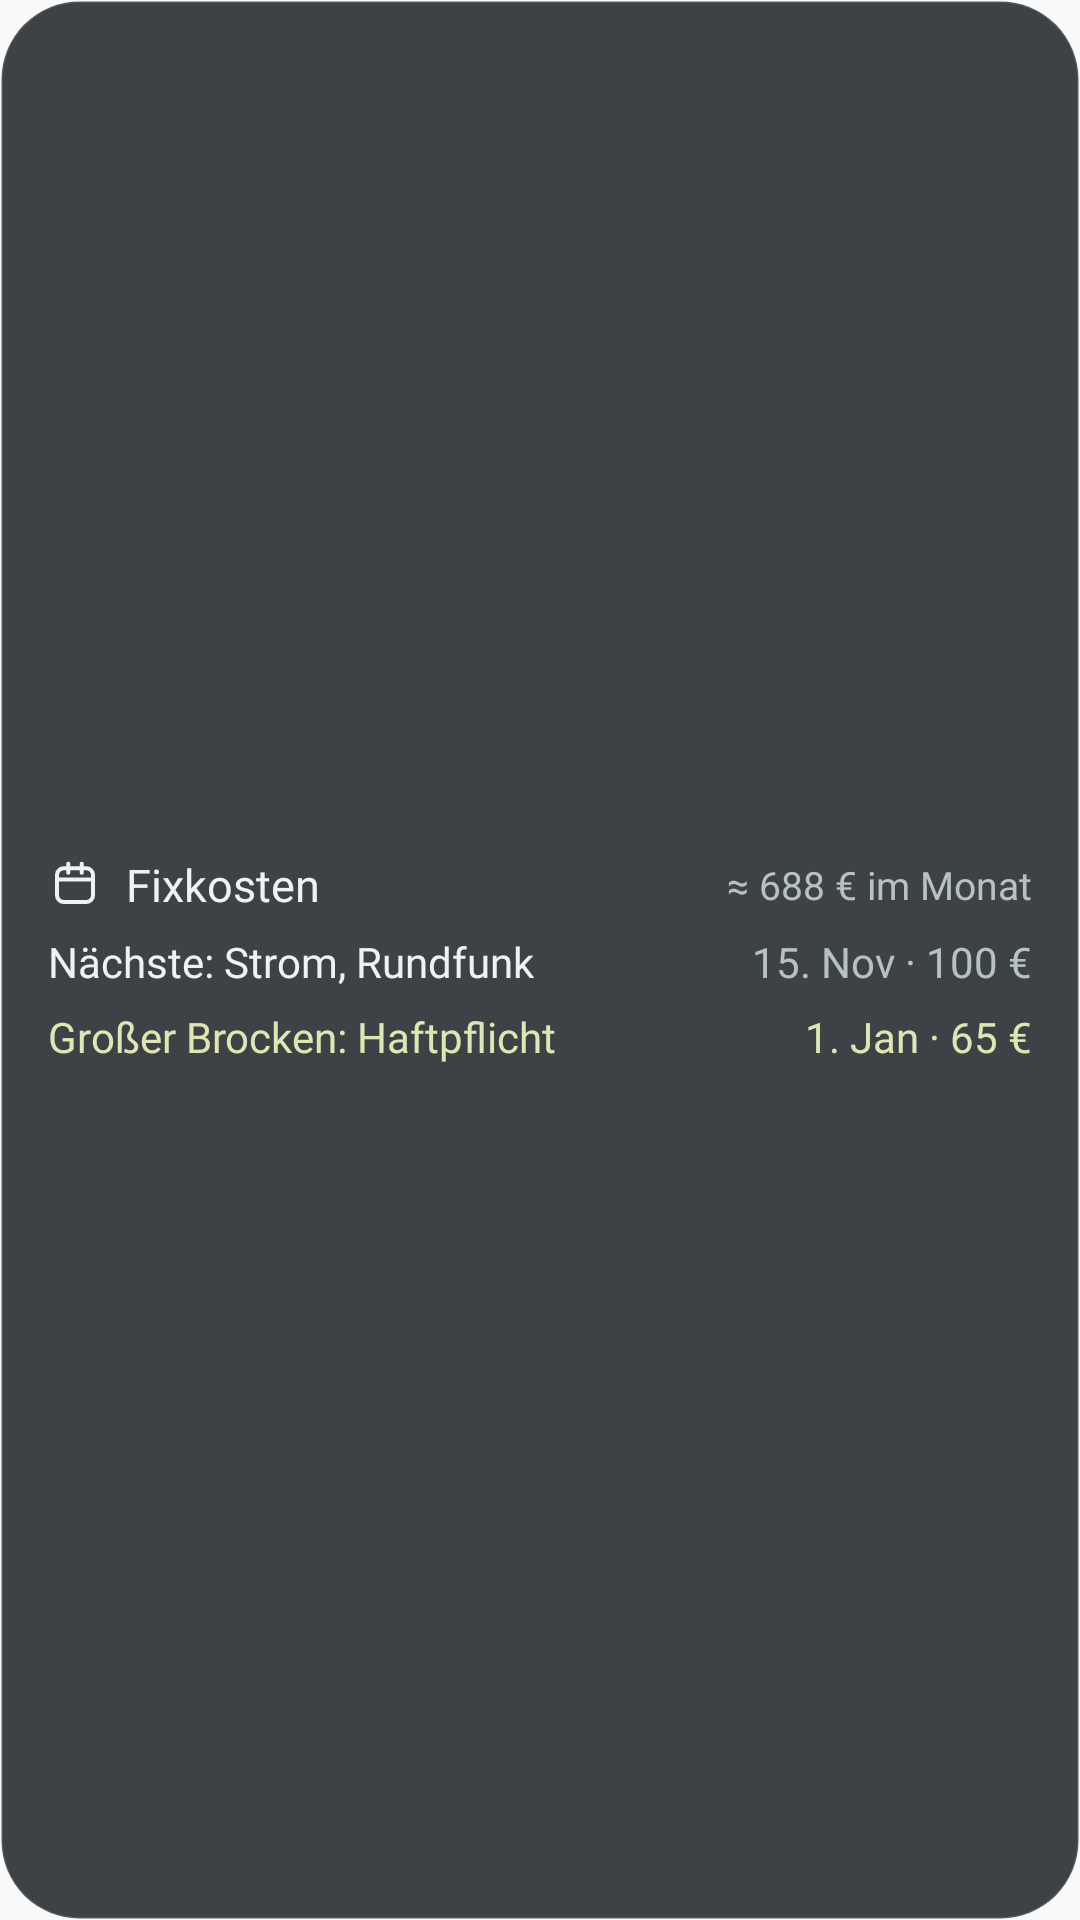

Icons on this 1080 x 1920 Android screen, each with its box as bbox=[x1, y1, x2, y2]:
kalender: bbox=[55, 861, 95, 904]
